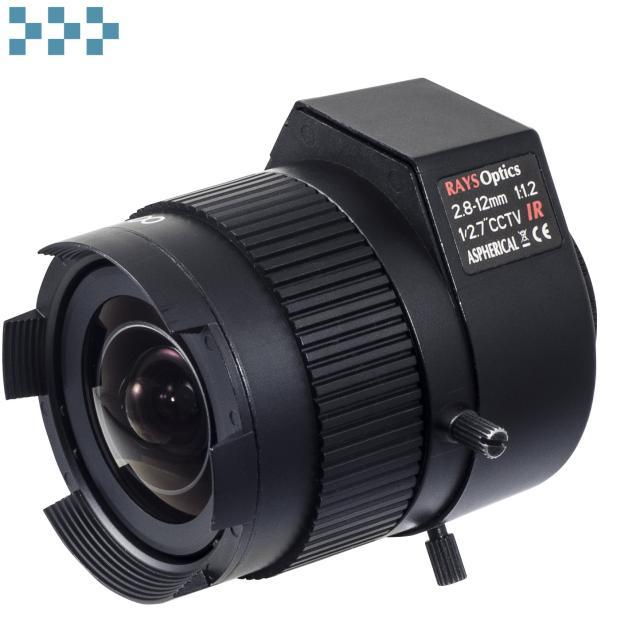hidden camera: (12, 239, 309, 598)
